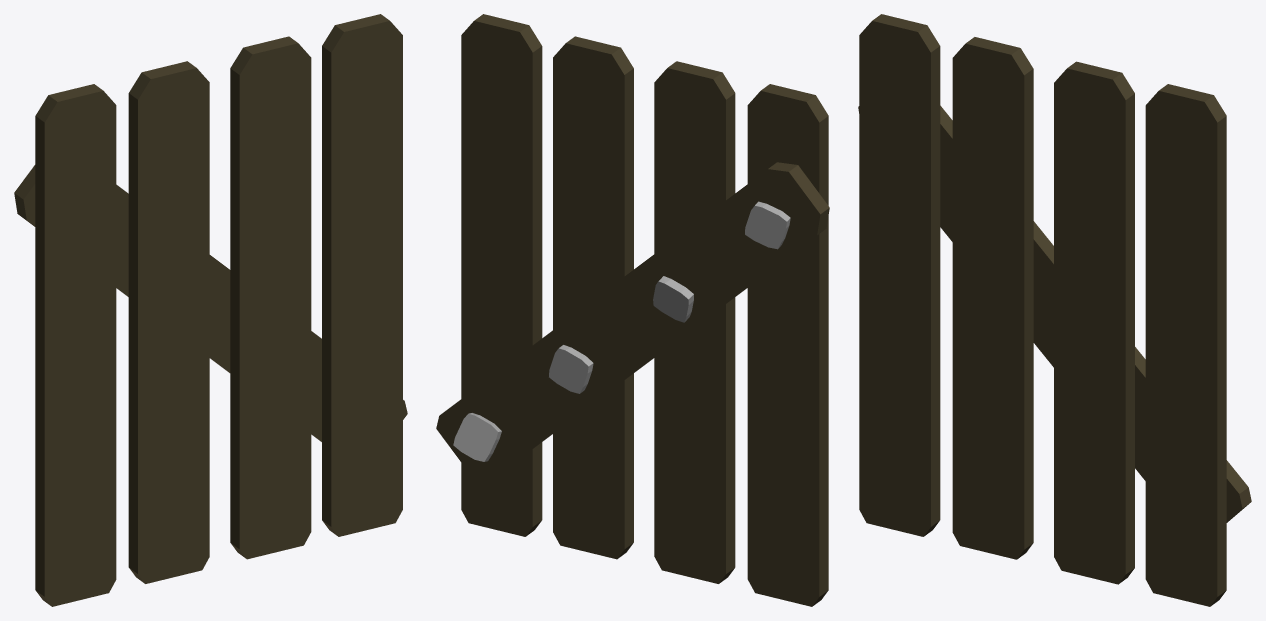
The model's file is GameBreakablePlanks.fbx.
The picture shows the model from 3 angles, left to right: view 1: azimuth 30°, elevation 25°; view 2: azimuth 150°, elevation 25°; view 3: azimuth 330°, elevation 25°; orthographic projection.
Visible parts, largest first — view 1: pCube17; view 2: pCube17; view 3: pCube17.
Boxes of the visible parts, left/top/right/bottom form: pCube17: left=14, top=14, right=407, bottom=606; pCube17: left=436, top=14, right=829, bottom=606; pCube17: left=858, top=14, right=1251, bottom=606.
Bounding box in the file's own units: 8.02 × 10.04 × 1.17.
